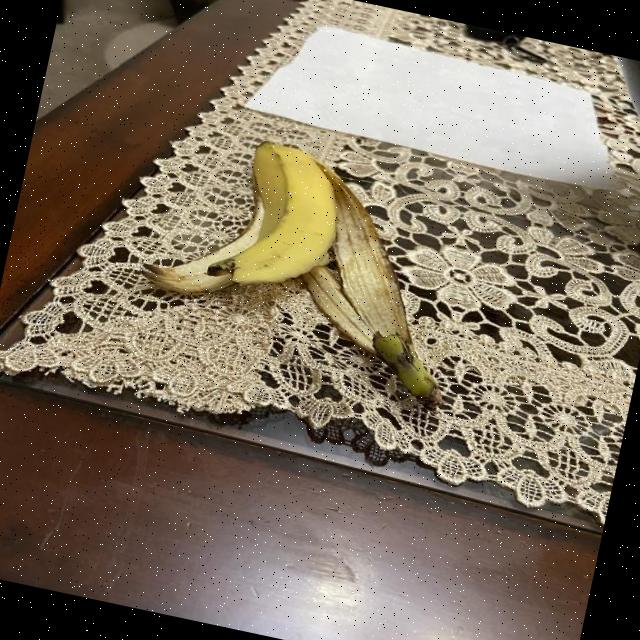banana-peel: (126, 117, 487, 407), (136, 117, 351, 323)
